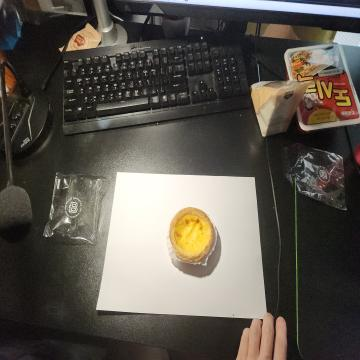EggTart: (168, 206, 214, 262)
